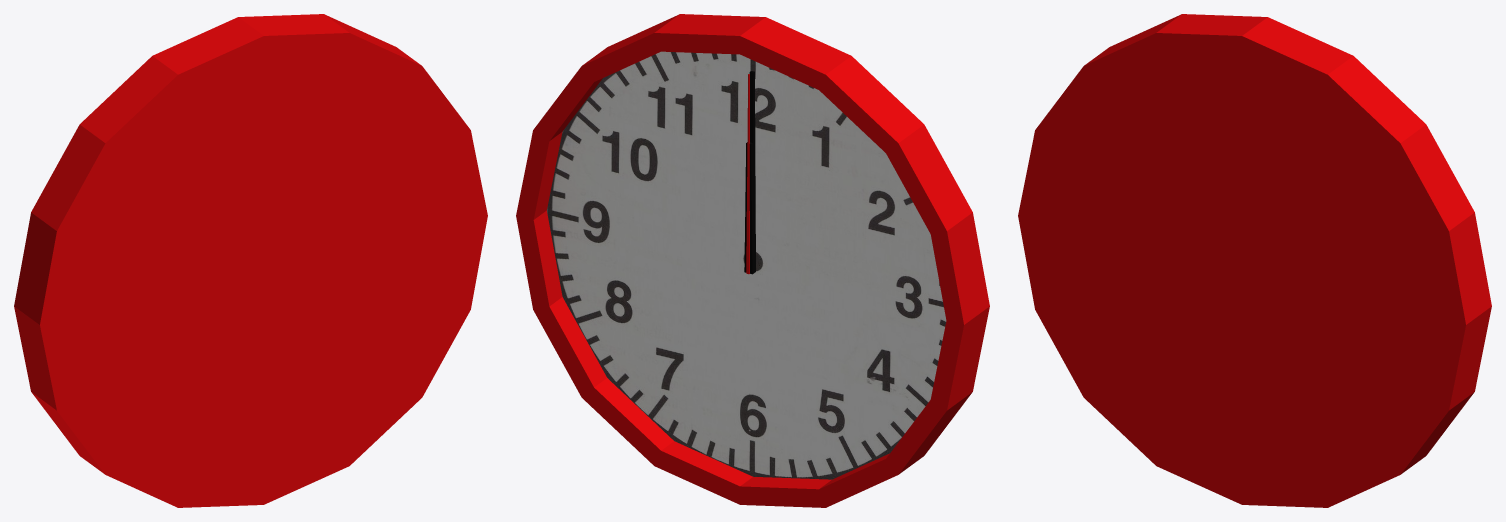
Rendered from Clock1v2.fbx.
3 renders of one model, left to right at view 1: azimuth 30°, elevation 25°; view 2: azimuth 150°, elevation 25°; view 3: azimuth 330°, elevation 25°, orthographic.
Visible parts, largest first — view 1: Clock; view 2: Clock, Minutes, Hours, Seconds; view 3: Clock.
Part boxes in pixels (x1,y1,x2,y2): Clock: (14,14,487,507); Clock: (516,14,989,507); Minutes: (749,71,755,273); Hours: (744,142,752,274); Seconds: (746,74,749,274); Clock: (1018,14,1491,507).
Bounding box in the file's own units: 200 × 200 × 20.
